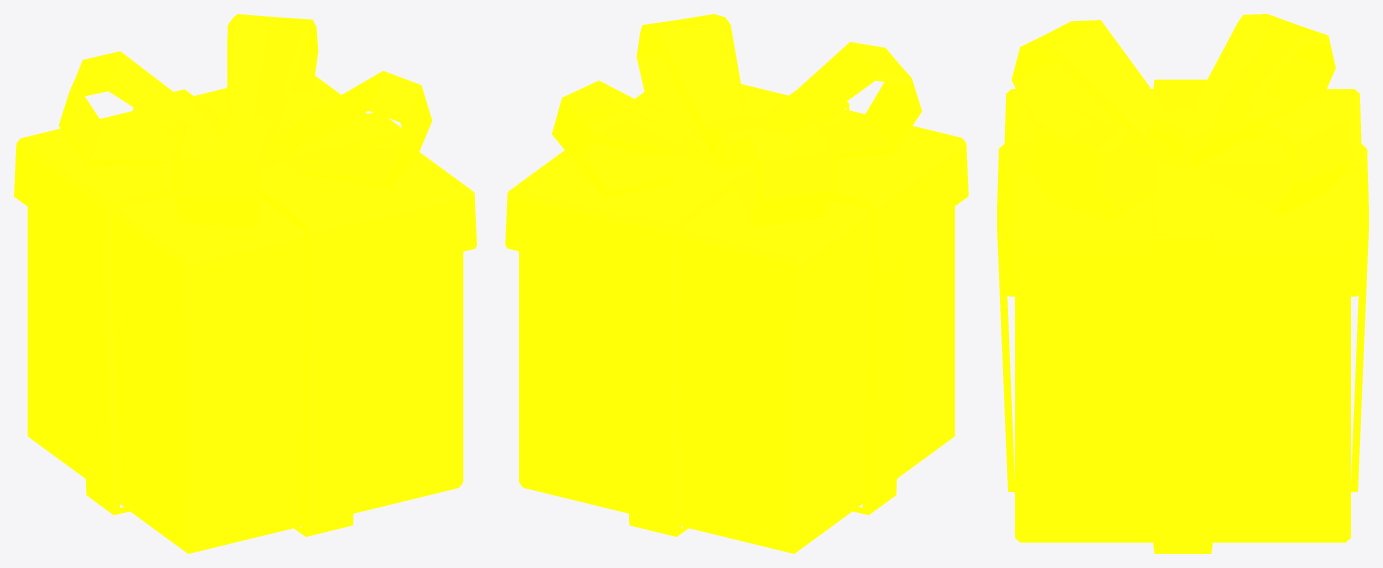
Rendered from gift-christmas-cube-c.glb.
The picture shows the model from 3 angles, left to right: view 1: azimuth 30°, elevation 25°; view 2: azimuth 150°, elevation 25°; view 3: azimuth 270°, elevation 25°; orthographic projection. The views are drawn at different scales.
Visible parts, largest first — view 1: gift_christmas_cube_c; view 2: gift_christmas_cube_c; view 3: gift_christmas_cube_c.
Boxes of the visible parts, x1,y1,x2,y2 form: gift_christmas_cube_c: (14, 14, 476, 553); gift_christmas_cube_c: (505, 14, 968, 553); gift_christmas_cube_c: (997, 14, 1368, 553).
Bounding box in the file's own units: 0.3317 × 0.4065 × 0.3317.
Materials: 1 (1 with a texture image).
